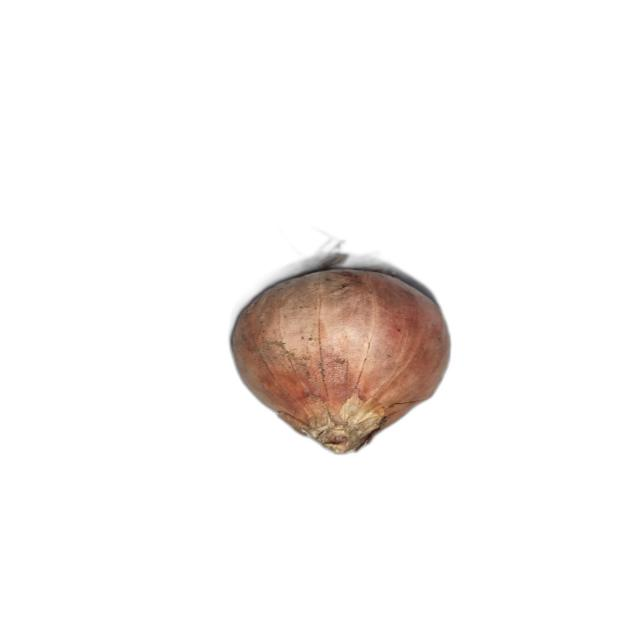onion: (228, 252, 453, 455)
